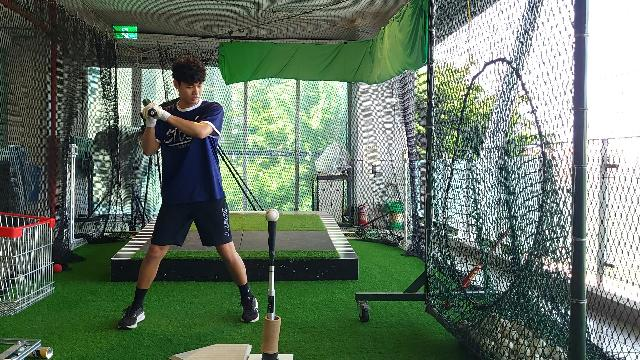baseball bat: (140, 97, 152, 107)
